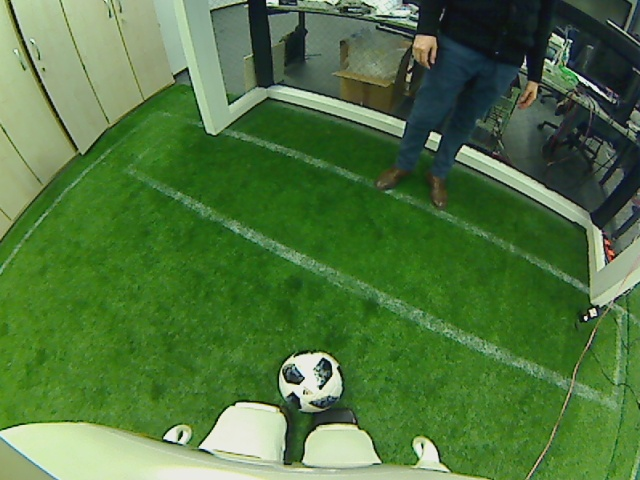ball: (277, 345, 345, 411)
